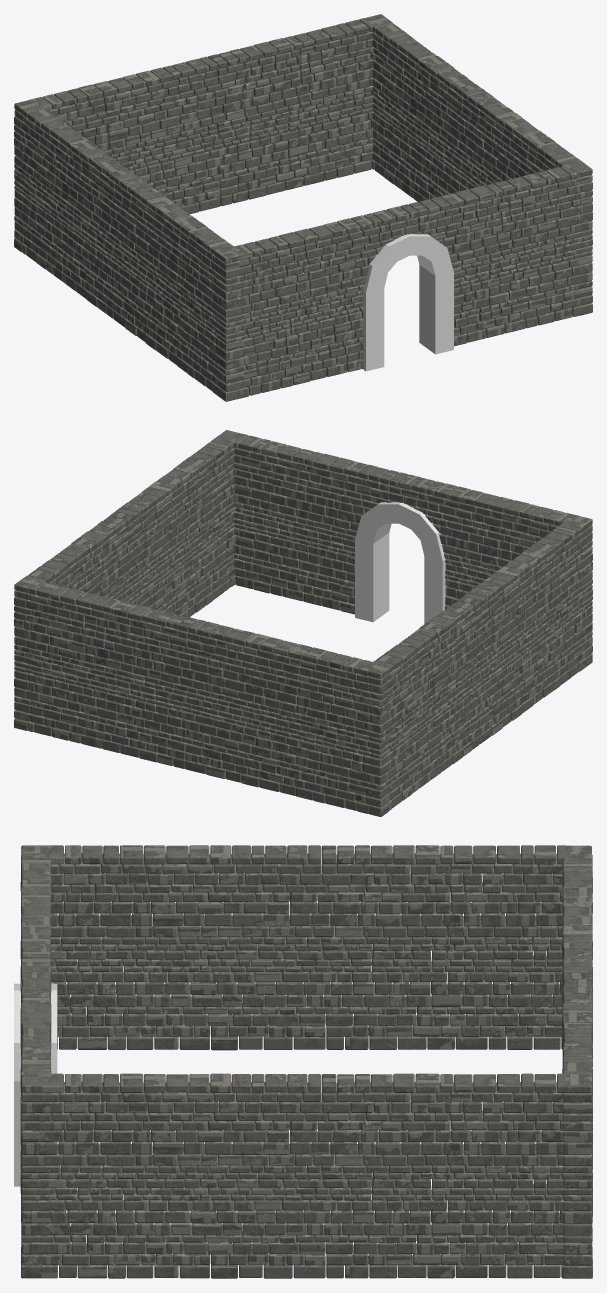
File: CastleStandardChamber.fbx
3 renders of one model, top to bottom at view 1: azimuth 30°, elevation 25°; view 2: azimuth 150°, elevation 25°; view 3: azimuth 270°, elevation 25°, orthographic. The views are drawn at different scales.
Visible parts, largest first — view 1: WallDoorORIGINAL..004; view 2: WallDoorORIGINAL..004; view 3: WallDoorORIGINAL..004.
Part boxes in pixels (x1,y1,x2,y2): WallDoorORIGINAL..004: [14, 14, 592, 401]; WallDoorORIGINAL..004: [14, 430, 592, 816]; WallDoorORIGINAL..004: [14, 845, 592, 1278].
Bounding box in the file's own units: 4004 × 1500 × 4057.
2 materials, 1 textured.
